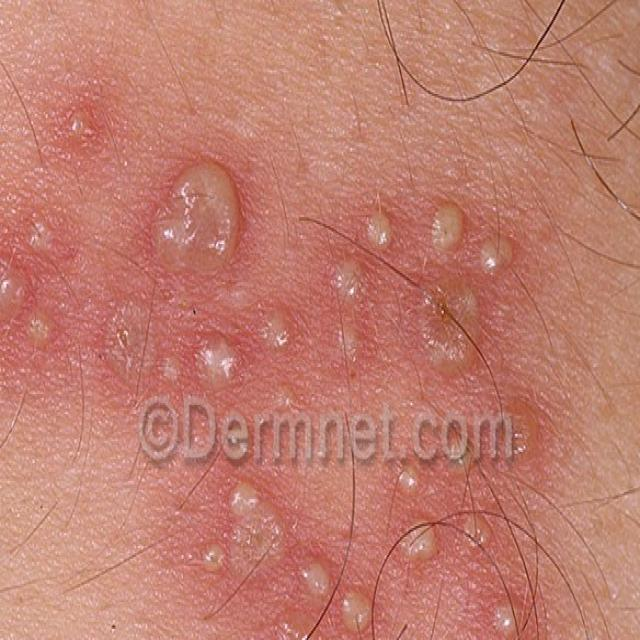Viral Infections: (0, 106, 565, 640)
